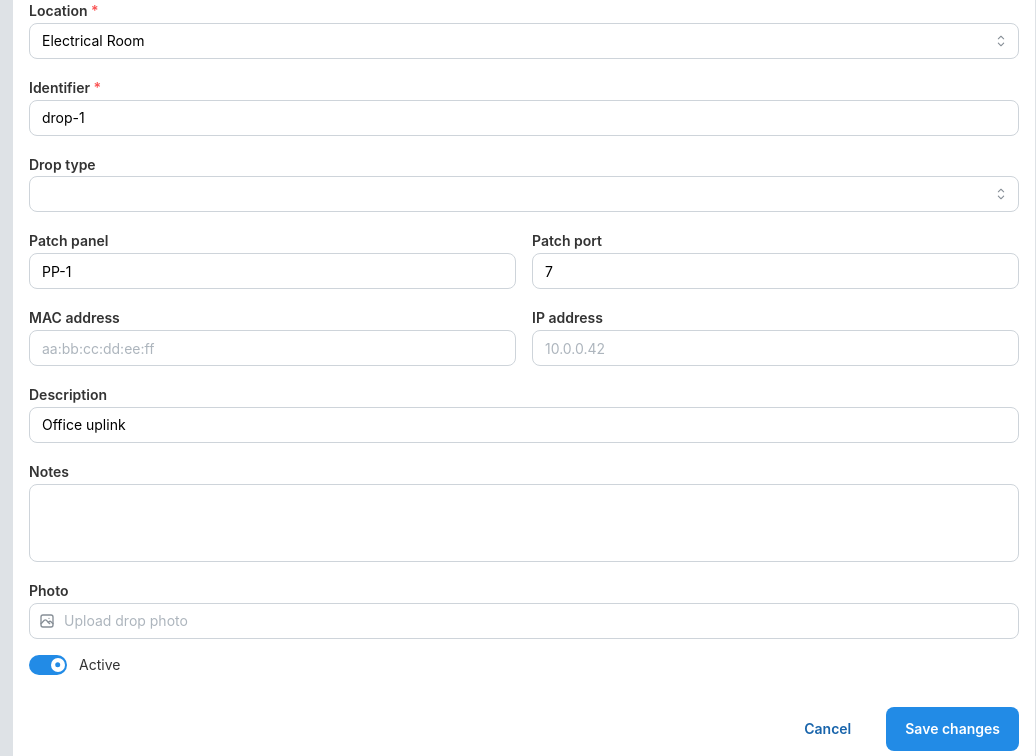
Test: NetworkDropFormPage resilience states › surfaces a save-failure message when the request errors (AC-19)
The width and height of the screenshot is (1036, 756).
(page scrolled)
Expected: the field showing "drop-1" is shown, [29, 100, 1019, 136]
Click the button "Save changes" at coordinates (953, 728), box [886, 706, 1019, 750]
(page scrolled)
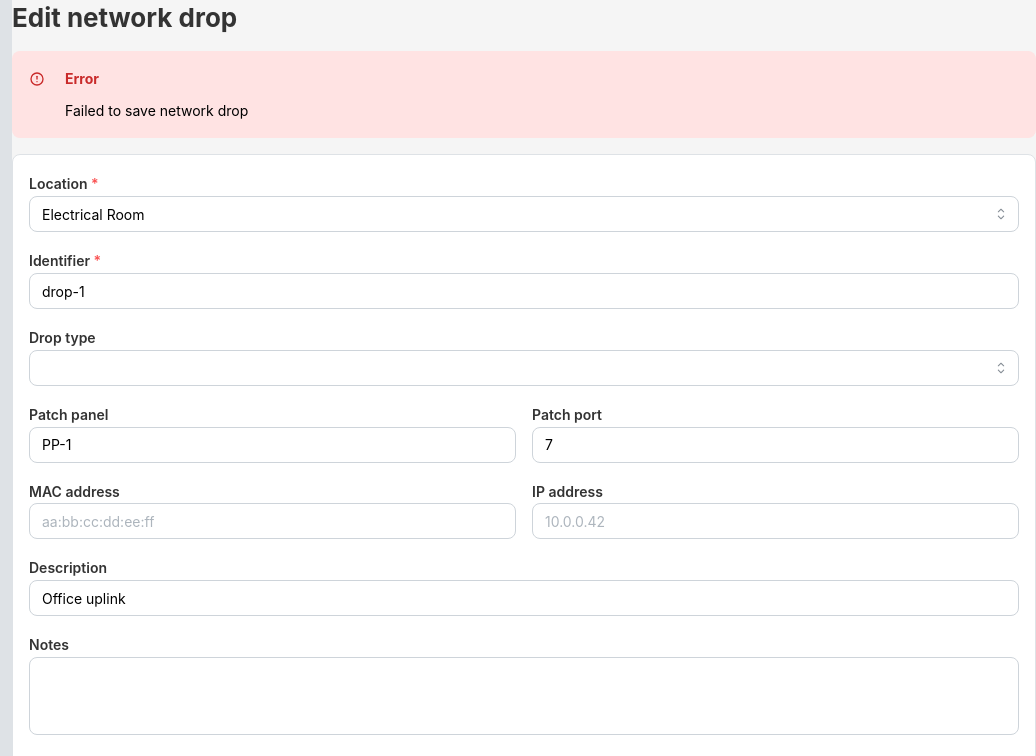
Now the text "Failed to save network drop" is shown, box [65, 102, 248, 119]
